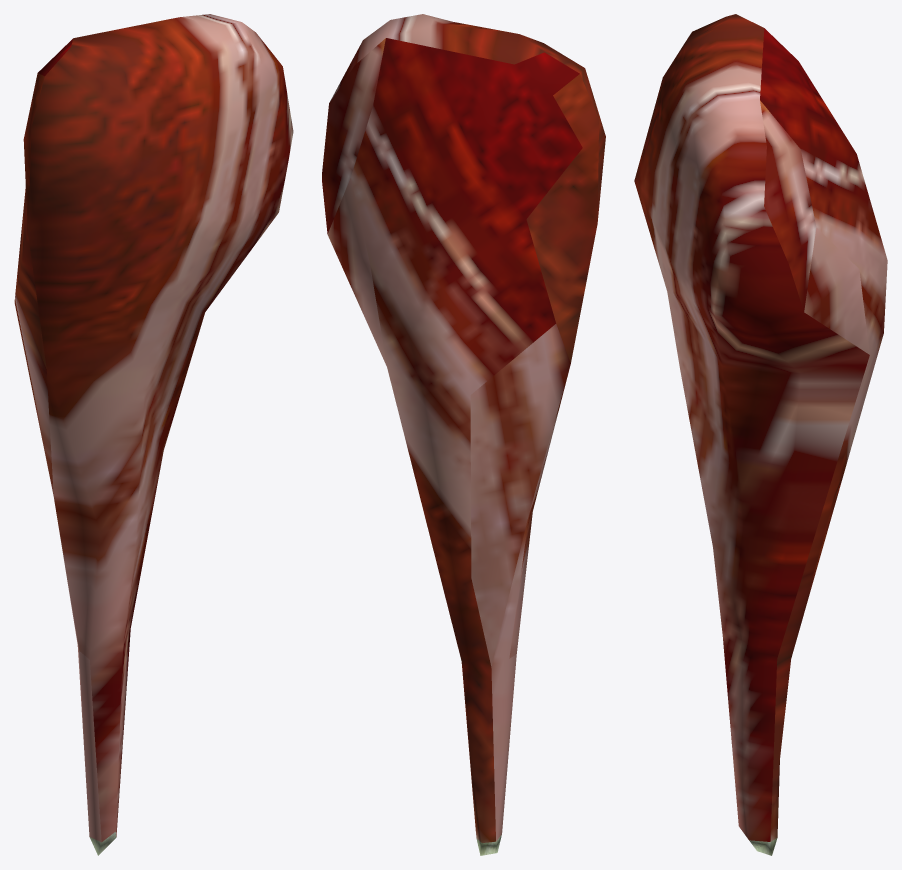
The model's file is ItFo_MuttonRaw.fbx.
3 views of the same model, side by side, from view 1: azimuth 30°, elevation 25°; view 2: azimuth 150°, elevation 25°; view 3: azimuth 270°, elevation 25° (orthographic). The views are drawn at different scales.
Visible parts, largest first — view 1: 3DSMesh_0; view 2: 3DSMesh_0; view 3: 3DSMesh_0.
Boxes of the visible parts, x1,y1,x2,y2 form: 3DSMesh_0: (14, 14, 293, 855); 3DSMesh_0: (322, 14, 605, 855); 3DSMesh_0: (634, 14, 887, 855).
Bounding box in the file's own units: 15.83 × 46.84 × 13.08.
